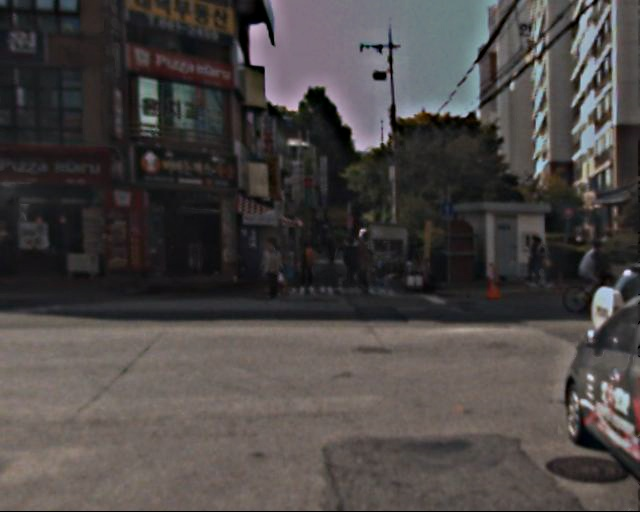person: (578, 241, 608, 314), (260, 239, 285, 301), (528, 234, 553, 295), (354, 241, 377, 296), (341, 238, 360, 285), (377, 254, 395, 299), (299, 242, 316, 284), (326, 234, 338, 264)
